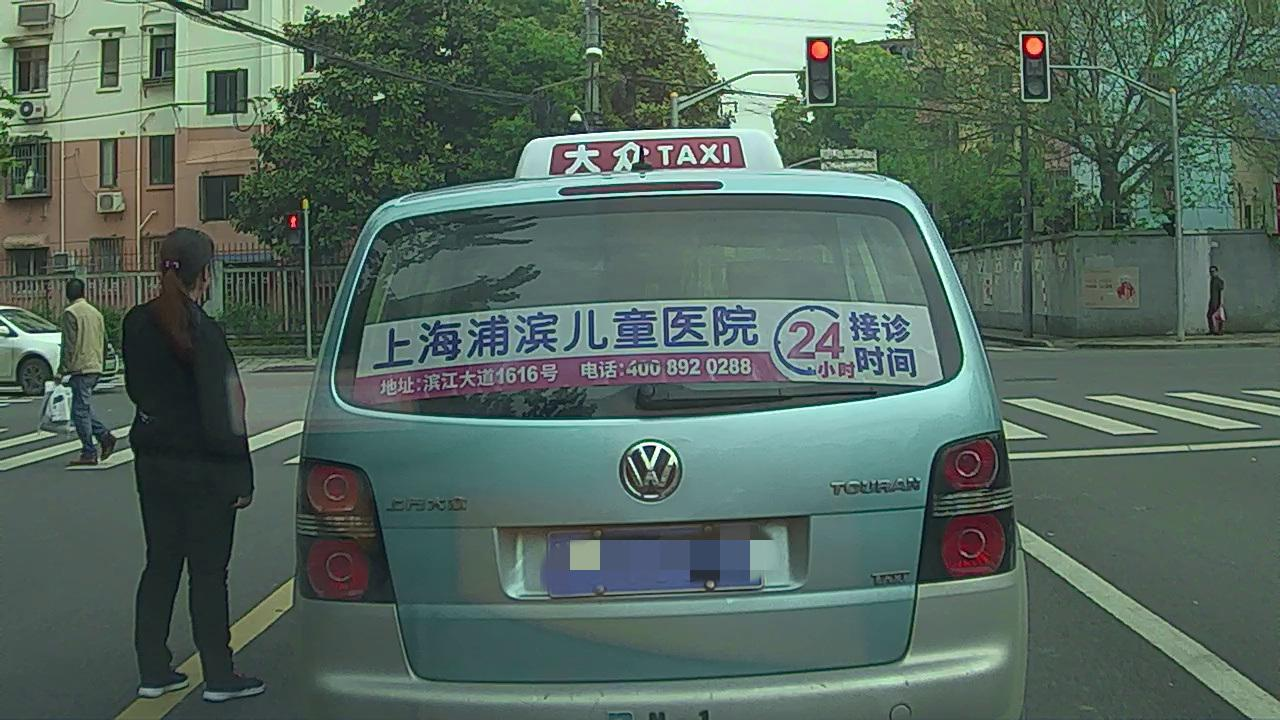traffic_light: (807, 38, 832, 103), (1022, 34, 1047, 99)
